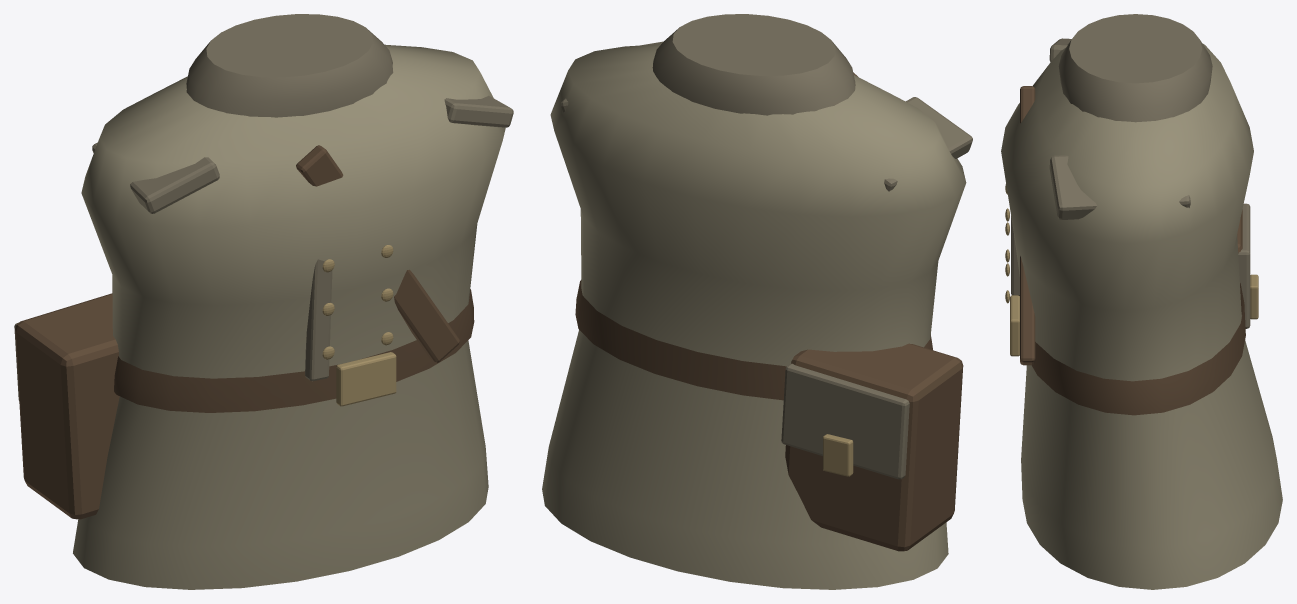
Rendered from OsowiecGreatcoat.fbx.
3 renders of one model, left to right at view 1: azimuth 30°, elevation 25°; view 2: azimuth 150°, elevation 25°; view 3: azimuth 270°, elevation 25°, orthographic. The views are drawn at different scales.
Parts seen in each view (by area): view 1: OsowiecGreatcoat; view 2: OsowiecGreatcoat; view 3: OsowiecGreatcoat.
Part boxes in pixels (x1,y1,x2,y2): OsowiecGreatcoat: (14,14,513,589); OsowiecGreatcoat: (542,14,972,589); OsowiecGreatcoat: (1001,14,1282,589).
Bounding box in the file's own units: 0.6197 × 0.673 × 0.381.
